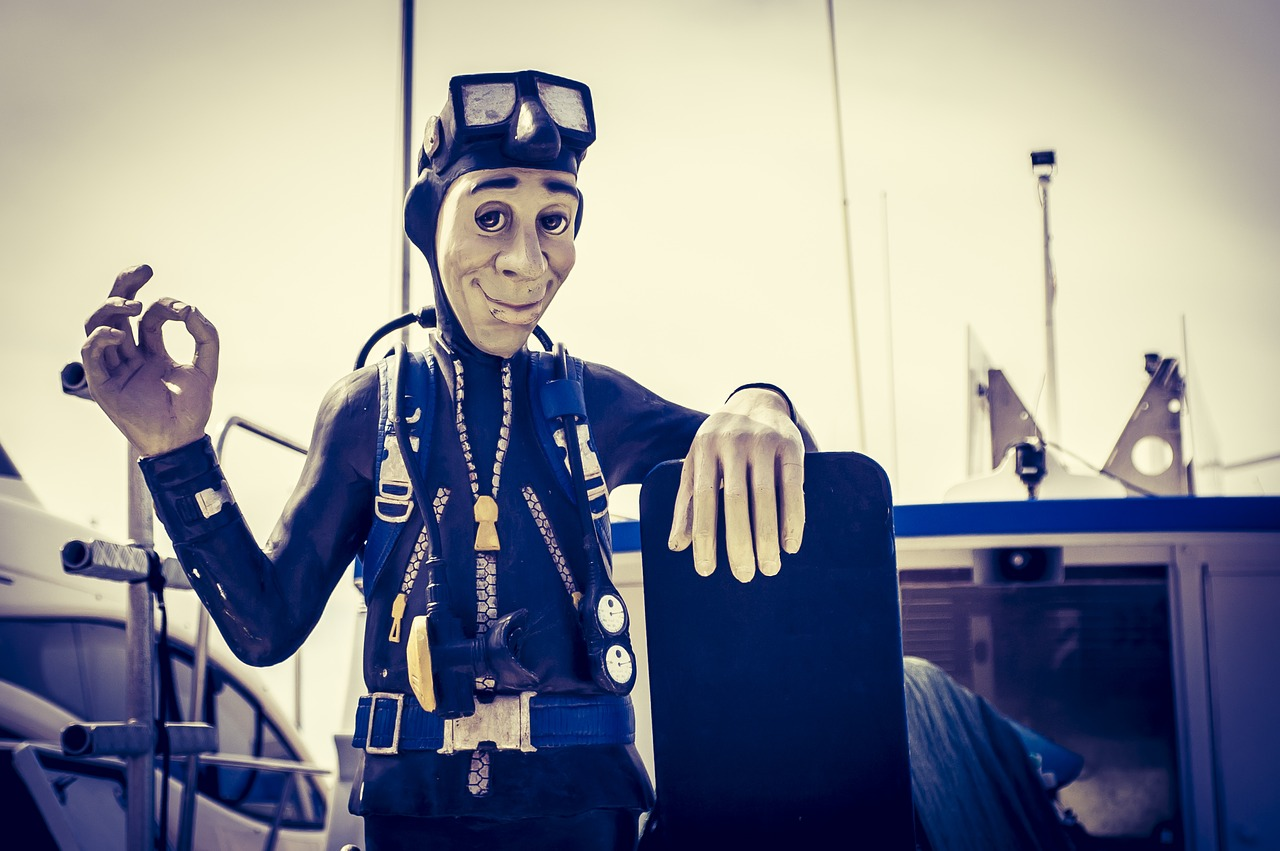oksign: (75, 263, 227, 442)
